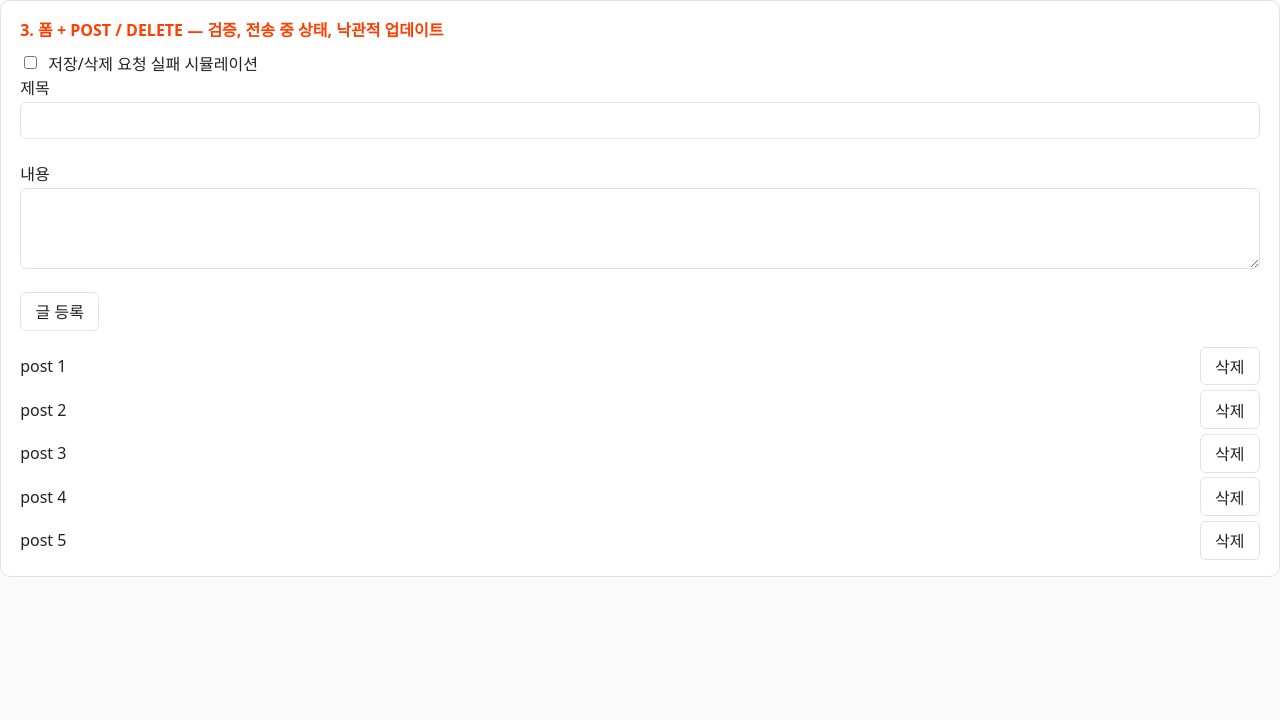
Test: PostManager (study8) — 폼 검증, POST, 낙관적 삭제 › 올바르게 제출하면 POST 후 목록 맨 앞에 추가되고 폼이 비워진다
Check: the text "post 1" is shown, box left=20, top=355, right=66, bottom=377
Type "새 글 제목" into the field labelled "제목" at (640, 120), box left=20, top=102, right=1260, bottom=139
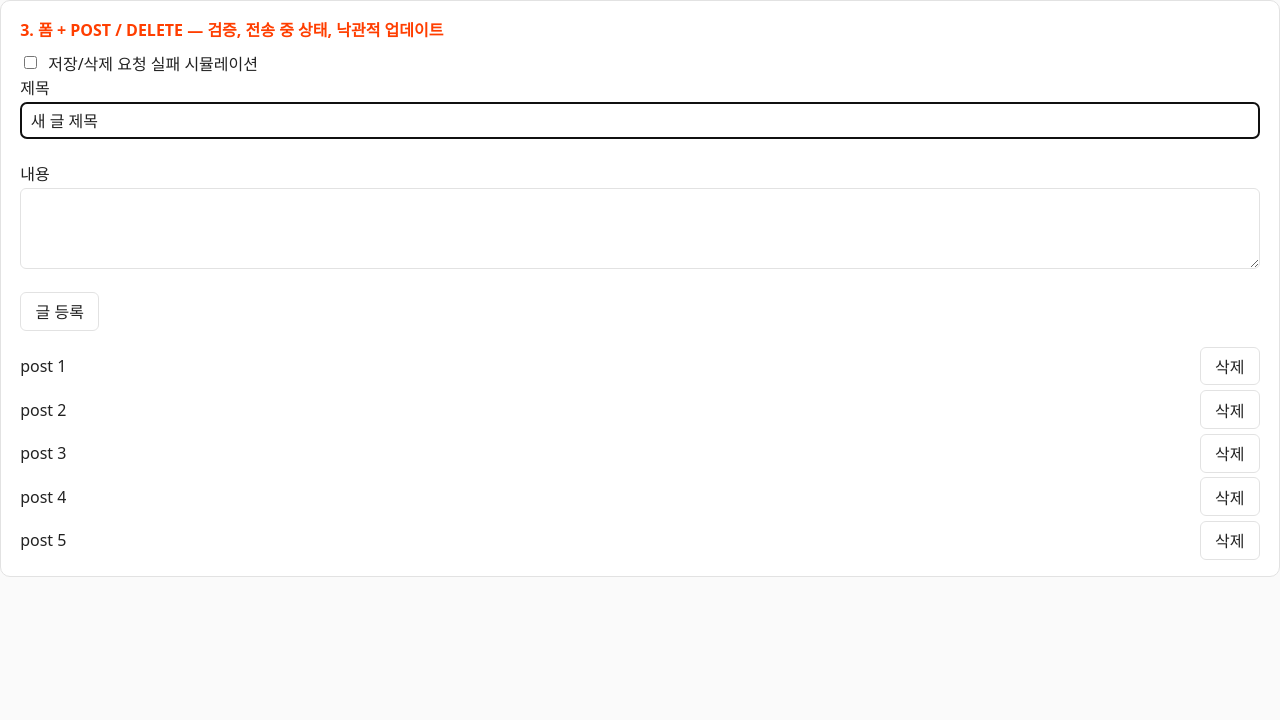
Type "내용은 열 글자를 넘겨야 합니다" into the text box labelled "내용" at (640, 229), box left=20, top=188, right=1260, bottom=269
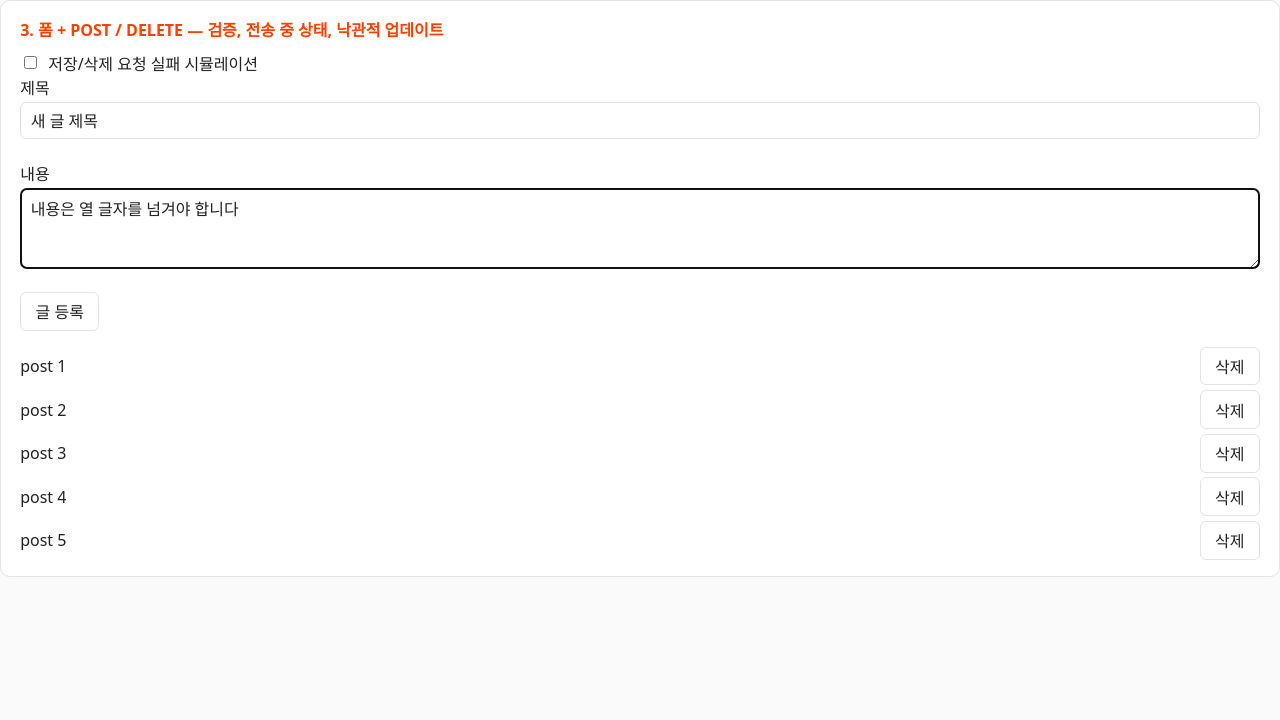
Click the button "글 등록" at (60, 311), box left=20, top=292, right=99, bottom=331
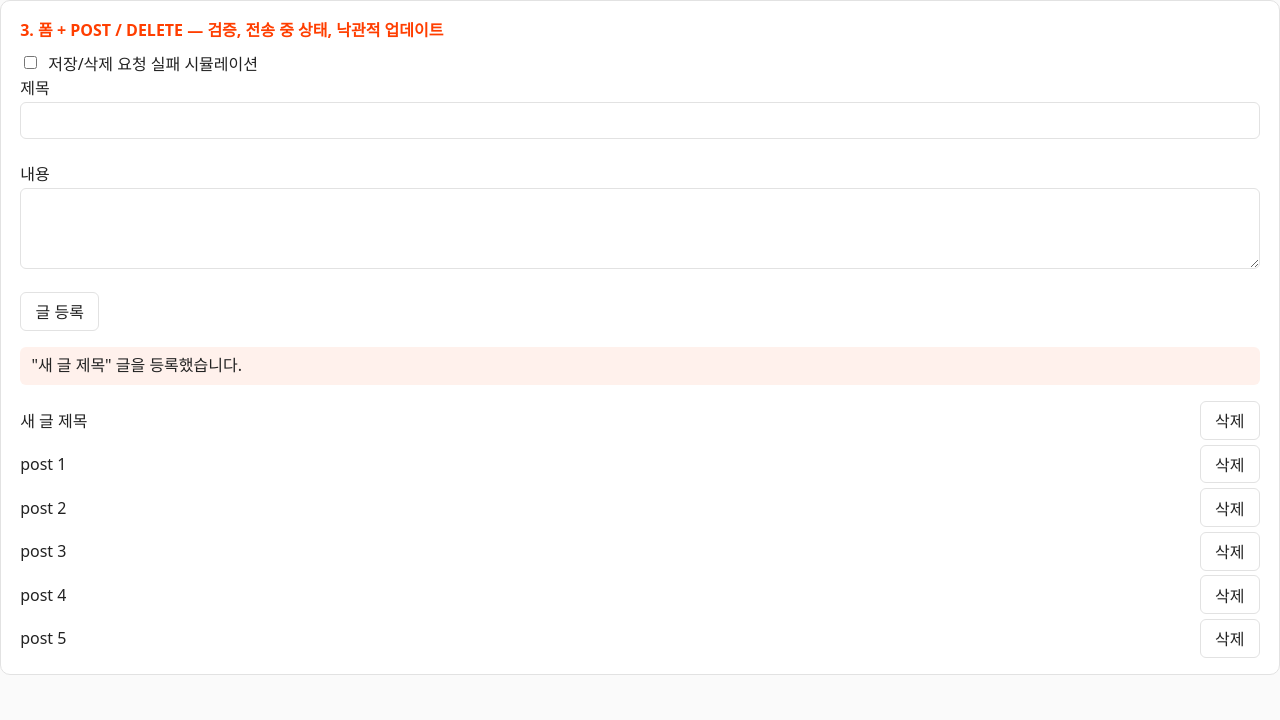
Check: the message reads "\"새 글 제목\" 글을 등록했습니다.", box left=31, top=354, right=242, bottom=376
Check: the number of list items is 6, box left=20, top=401, right=1260, bottom=440; left=20, top=445, right=1260, bottom=483; left=20, top=488, right=1260, bottom=527; left=20, top=532, right=1260, bottom=571; left=20, top=575, right=1260, bottom=614; left=20, top=619, right=1260, bottom=658
Check: the list item "새 글 제목 삭제" is shown, box left=20, top=401, right=1260, bottom=440
